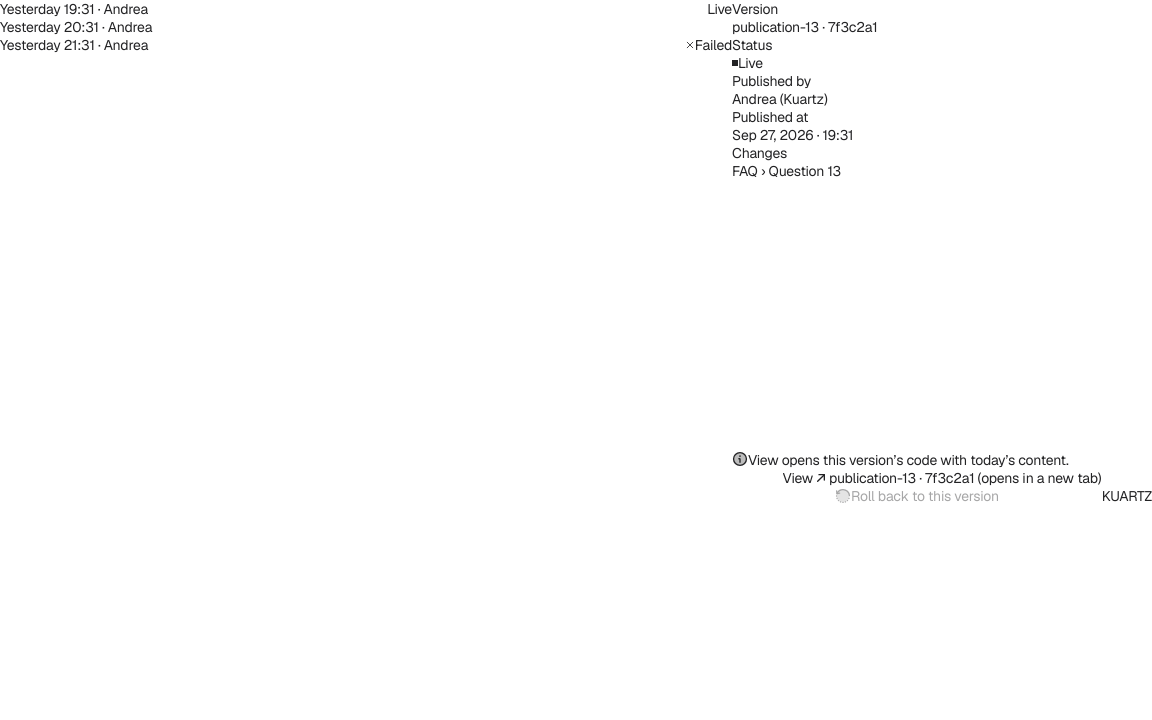
Test: E2 · Versions › Kuartz : confirmation obligatoire ; 501 du moteur → message clair dans la fenêtre
The width and height of the screenshot is (1152, 720).
Click the button "Yesterday 20:31 · Andrea".
click(76, 27)  # box 0,18 -> 732,36
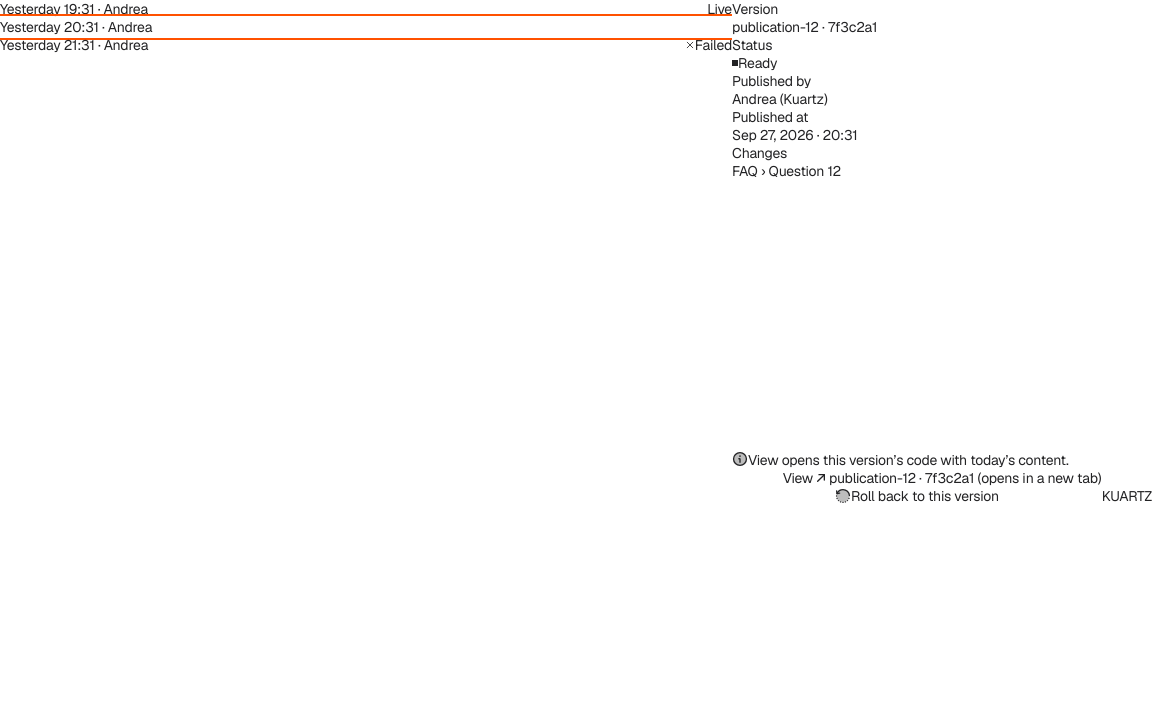
Click the button "Roll back to this version".
click(917, 496)  # box 732,487 -> 1102,505
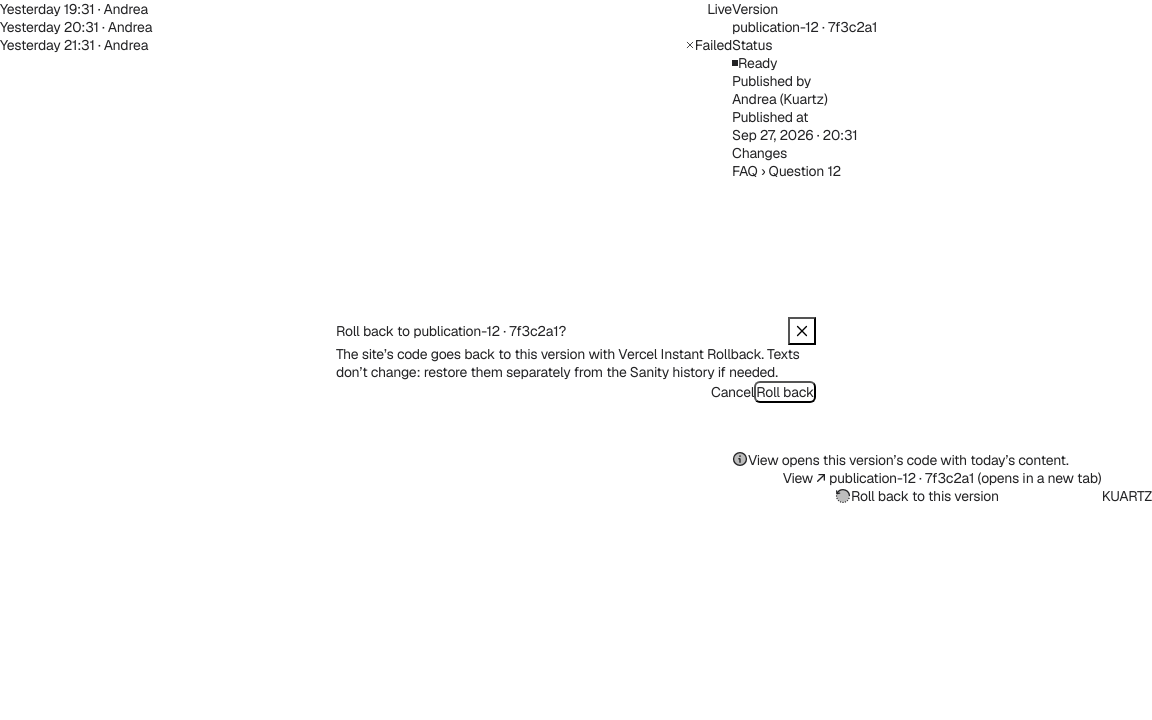
Click the button "Roll back".
click(785, 392)  # box 754,381 -> 816,403
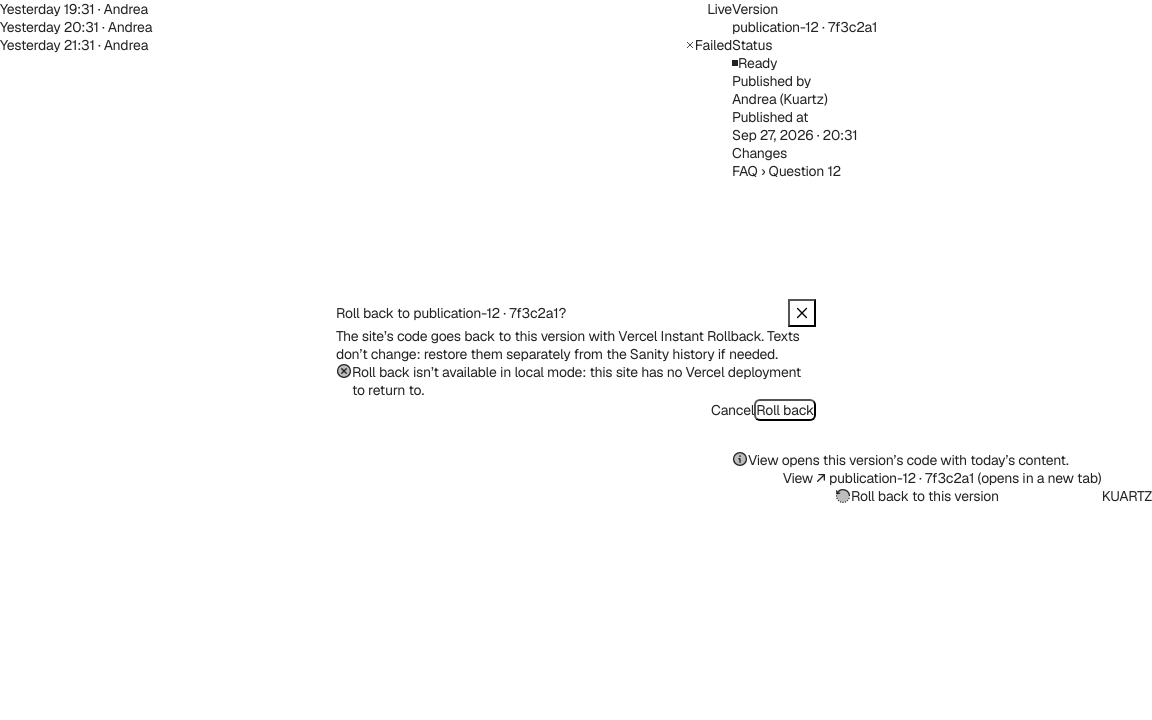
Result: the message shows "isn’t available in local mode" at 352,363 -> 801,399
